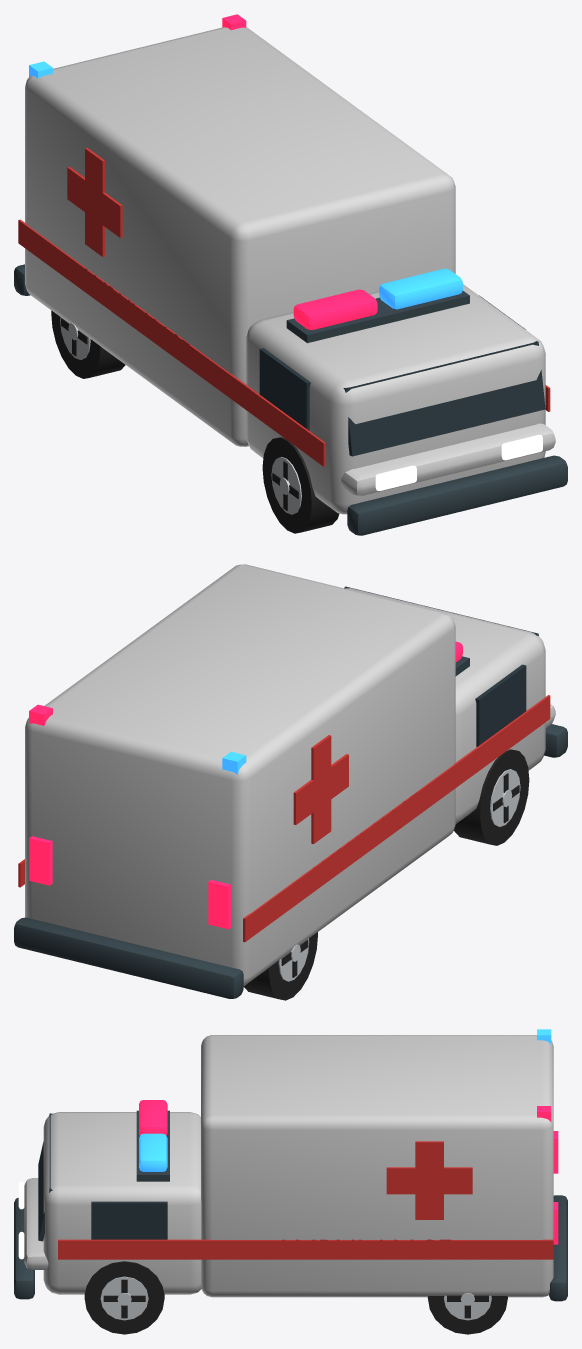
Rendered from cameos_ambulance.glb.
The picture shows the model from 3 angles, top to bottom: view 1: azimuth 30°, elevation 25°; view 2: azimuth 150°, elevation 25°; view 3: azimuth 270°, elevation 25°; orthographic projection. The views are drawn at different scales.
Visible parts, largest first — view 1: Ambulance_body, Wheel_FR.001, Wheel_RR.001; view 2: Ambulance_body, Wheel_FR.001, Wheel_RR.001; view 3: Ambulance_body, Wheel_FL.001, Wheel_RL.001.
Part boxes in pixels (x1,y1,x2,y2): Ambulance_body: (14, 14, 567, 535); Wheel_FR.001: (262, 437, 339, 533); Wheel_RR.001: (51, 310, 125, 378); Ambulance_body: (14, 564, 567, 998); Wheel_FR.001: (454, 749, 529, 845); Wheel_RR.001: (243, 932, 317, 1000); Ambulance_body: (14, 1029, 567, 1301); Wheel_FL.001: (84, 1261, 164, 1334); Wheel_RL.001: (427, 1293, 507, 1334).
Size of the model in its own units: 2.25 by 2.56 by 5.81.
